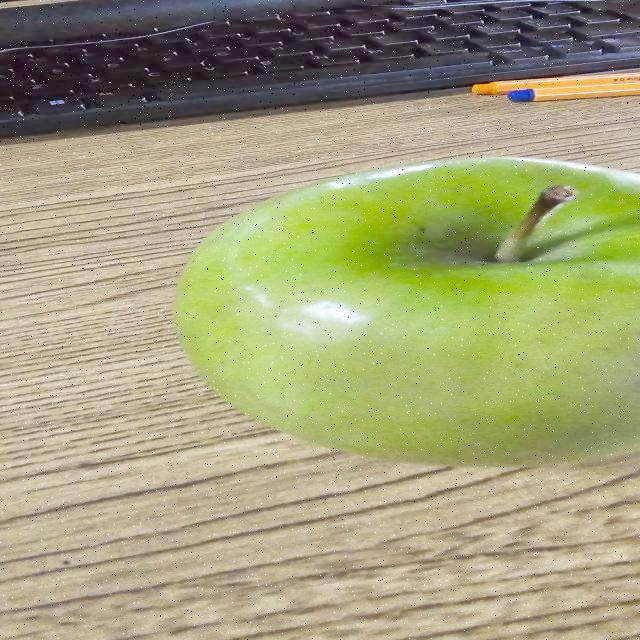Apel Granny Smith: (175, 153, 640, 470)
